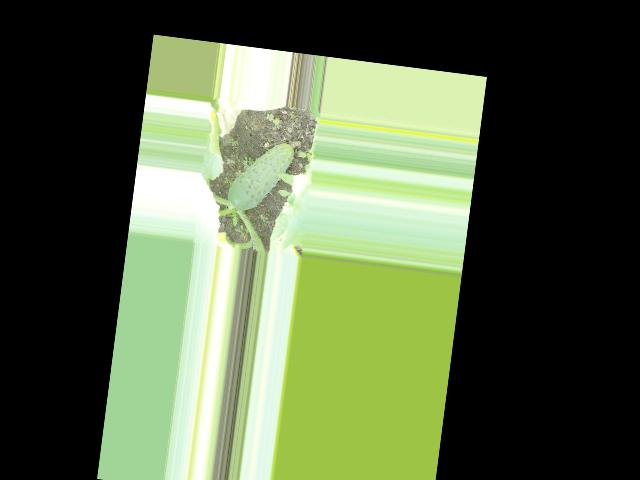cucumber: (226, 137, 295, 216)
